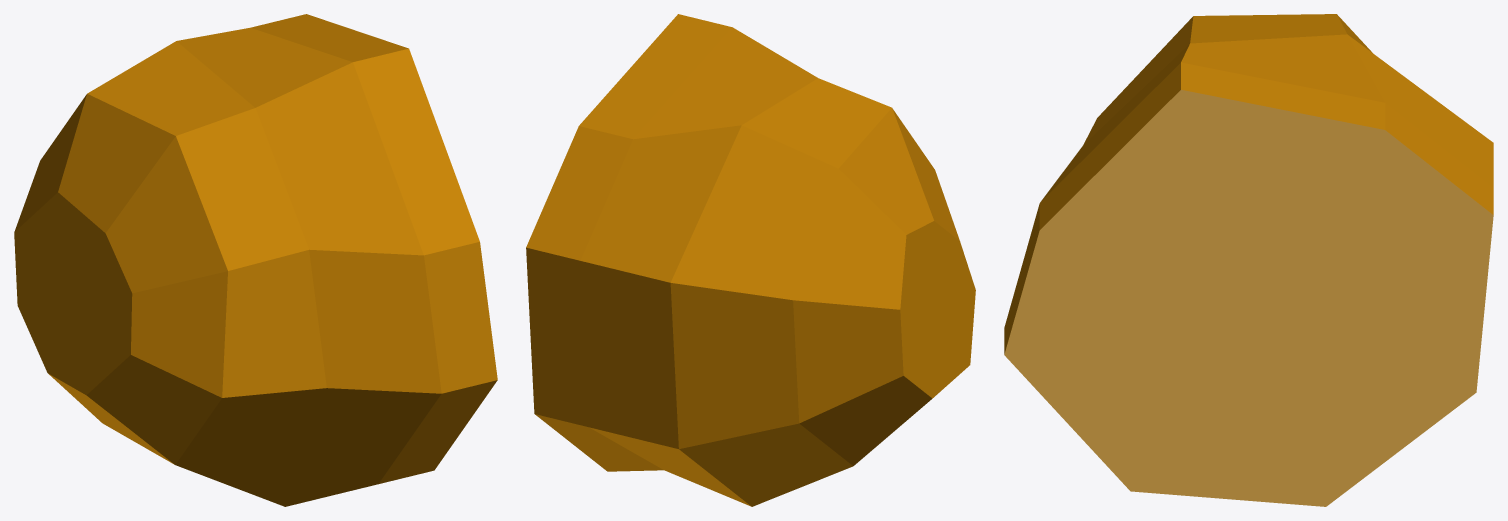
The model's file is potato02.obj.
The picture shows the model from 3 angles, left to right: view 1: azimuth 30°, elevation 25°; view 2: azimuth 150°, elevation 25°; view 3: azimuth 270°, elevation 25°; orthographic projection. The views are drawn at different scales.
Visible parts, largest first — view 1: Cylinder.001; view 2: Cylinder.001; view 3: Cylinder.001.
Part boxes in pixels (bbox=[...]): Cylinder.001: bbox=[14, 14, 497, 506]; Cylinder.001: bbox=[526, 14, 975, 506]; Cylinder.001: bbox=[1004, 14, 1493, 506].
Bounding box in the file's own units: 0.0485 × 0.0622 × 0.0661.
1 material, 1 textured.
